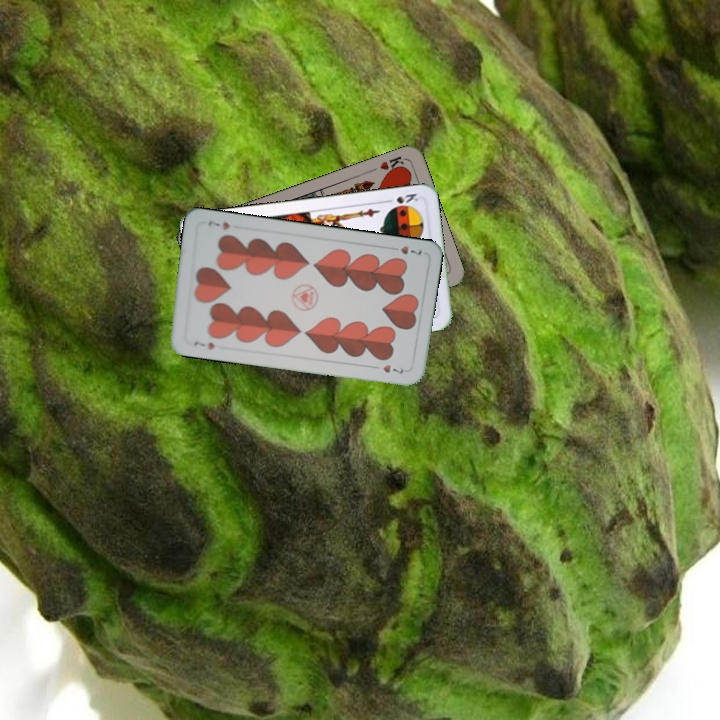H7: (386, 242, 424, 258), (190, 336, 217, 352)
HK: (376, 152, 408, 177)
SK: (381, 189, 421, 206)
